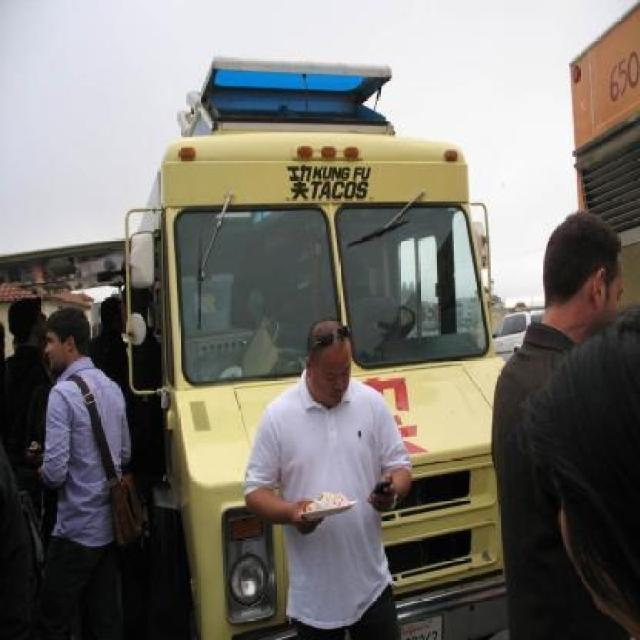Bus: (132, 8, 520, 640)
